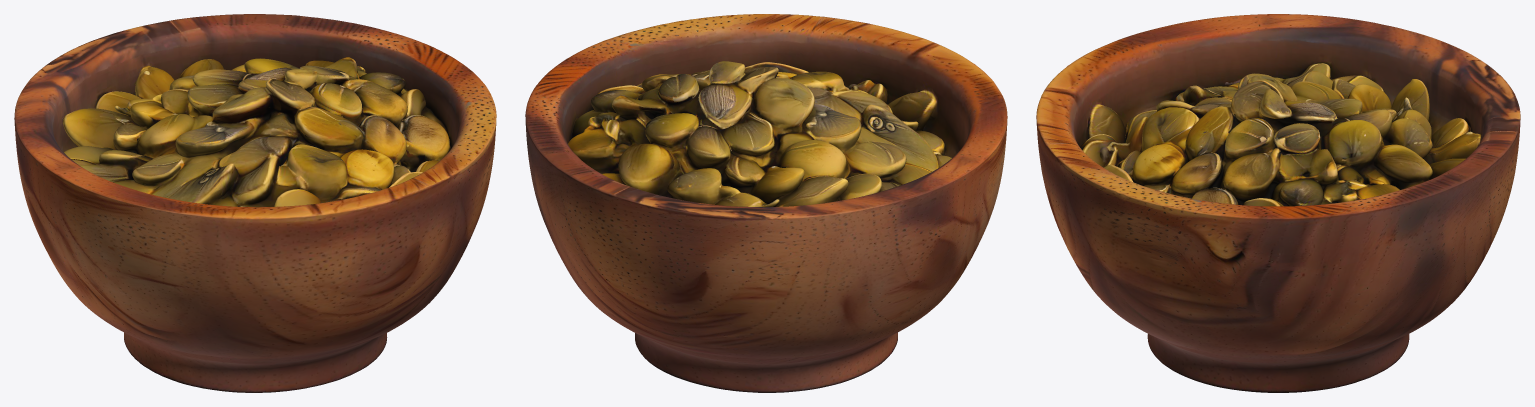
File: Seeds.glb
The picture shows the model from 3 angles, left to right: view 1: azimuth 30°, elevation 25°; view 2: azimuth 150°, elevation 25°; view 3: azimuth 270°, elevation 25°; orthographic projection.
Visible parts, largest first — view 1: vrin_node_89c5691f-3854-4a3a-96be-c27979466a11; view 2: vrin_node_89c5691f-3854-4a3a-96be-c27979466a11; view 3: vrin_node_89c5691f-3854-4a3a-96be-c27979466a11.
Part boxes in pixels (x1=…): vrin_node_89c5691f-3854-4a3a-96be-c27979466a11: x1=14, y1=14, x2=496, y2=392; vrin_node_89c5691f-3854-4a3a-96be-c27979466a11: x1=525, y1=14, x2=1007, y2=392; vrin_node_89c5691f-3854-4a3a-96be-c27979466a11: x1=1036, y1=14, x2=1520, y2=392.
Bounding box in the file's own units: 0.9998 × 0.6018 × 1.
Materials: 1 (1 with a texture image).
